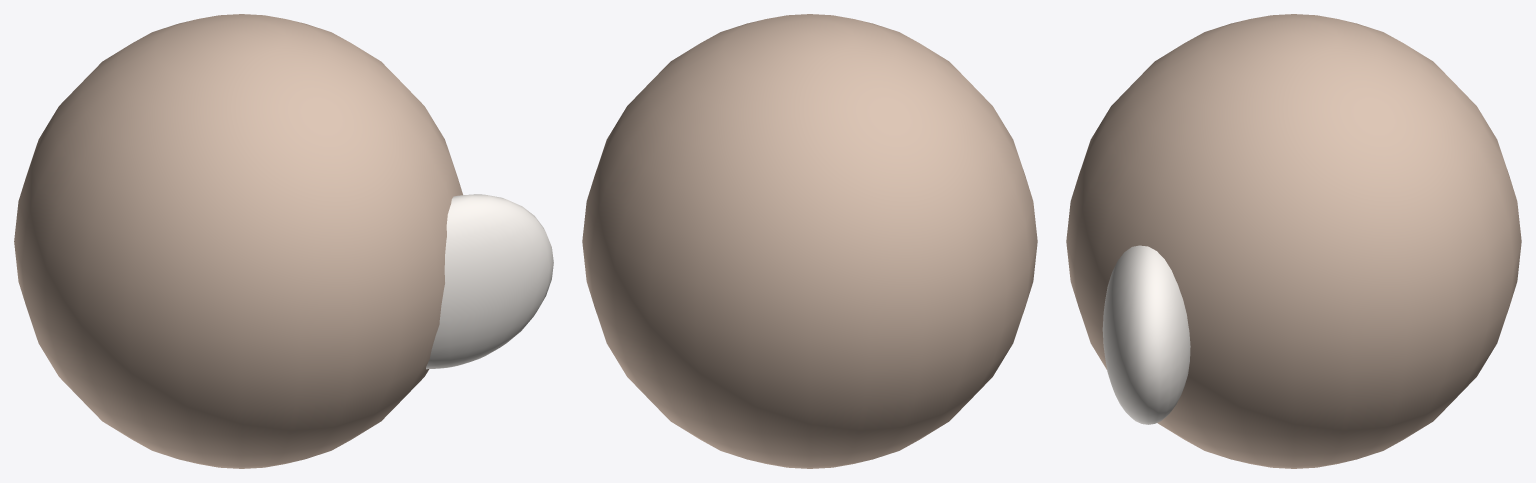
The model's file is pluto.glb.
The picture shows the model from 3 angles, left to right: view 1: azimuth 30°, elevation 25°; view 2: azimuth 150°, elevation 25°; view 3: azimuth 270°, elevation 25°; orthographic projection.
Parts seen in each view (by area): view 1: body_node, heart_node; view 2: body_node; view 3: body_node, heart_node.
Boxes of the visible parts, x1=… form: body_node: x1=14, y1=14, x2=462, y2=468; heart_node: x1=426, y1=194, x2=553, y2=369; body_node: x1=582, y1=14, x2=1037, y2=468; body_node: x1=1066, y1=14, x2=1521, y2=468; heart_node: x1=1102, y1=245, x2=1190, y2=424.
Bounding box in the file's own units: 1.1 × 1 × 1.
